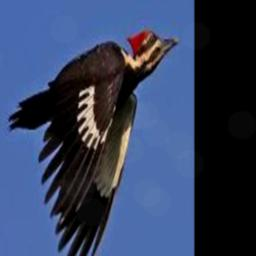Woodpecker: (7, 28, 178, 256)
